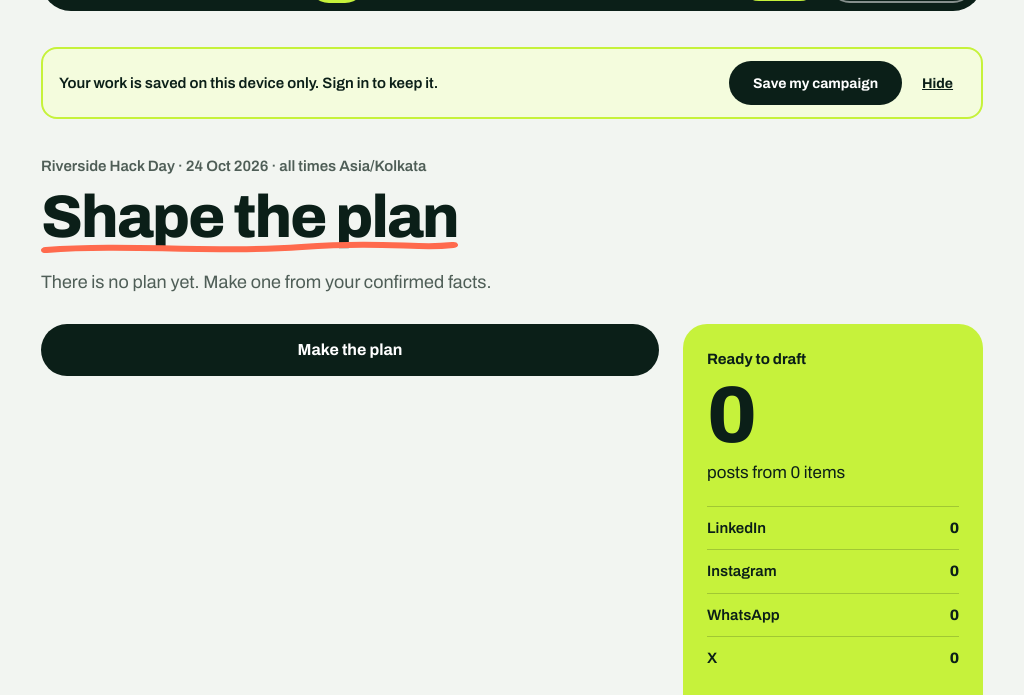
plan › a past event shows the server's notice with the follow-up plan
This screenshot has width=1024, height=695.
Click the button "Make the plan" at x=350, y=350, box [41,324,659,376]
(page scrolled)
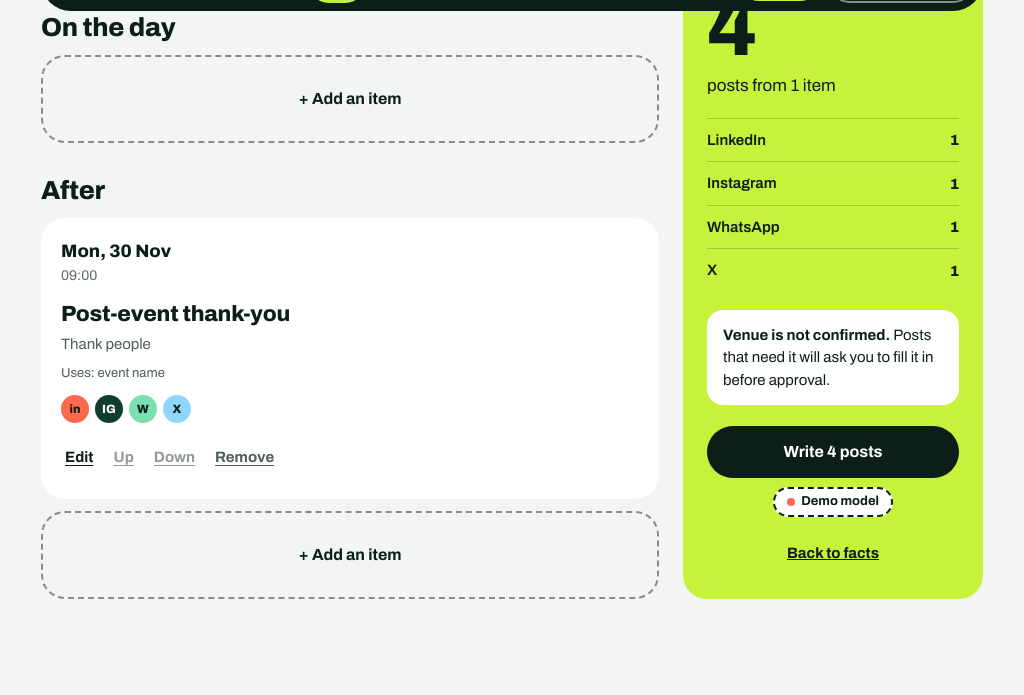
Result: the heading "Post-event thank-you" is shown at [61,302,290,326]
